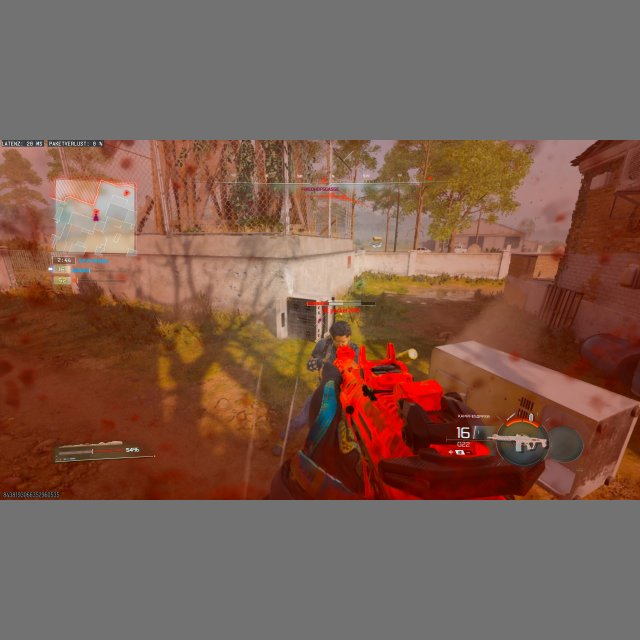head: (330, 320, 352, 344)
player: (306, 320, 357, 373)
